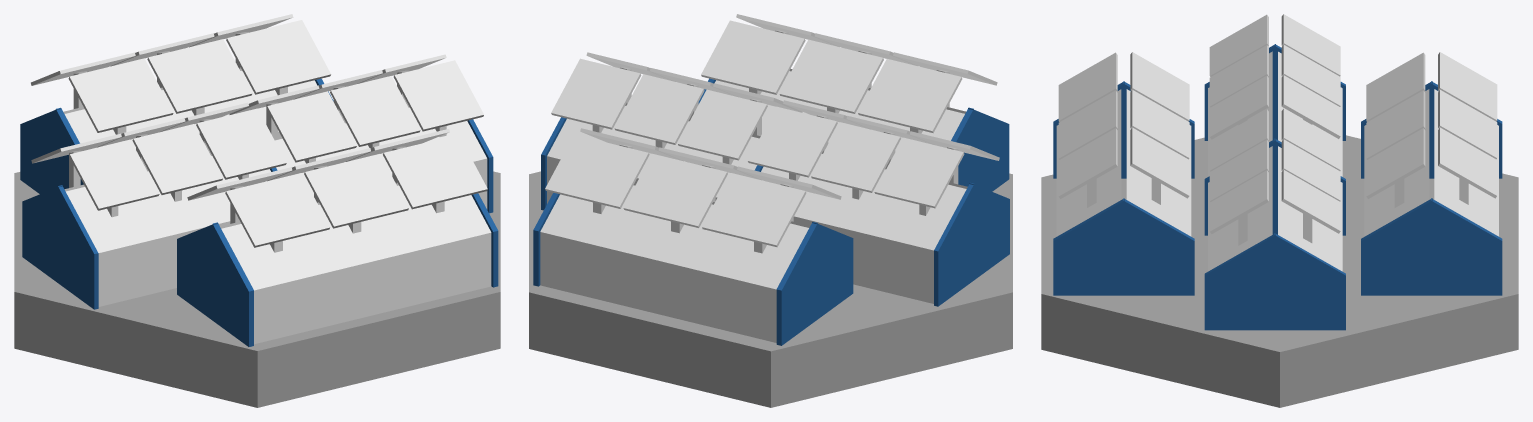
File: SolarPanel.fbx
The picture shows the model from 3 angles, left to right: view 1: azimuth 30°, elevation 25°; view 2: azimuth 150°, elevation 25°; view 3: azimuth 270°, elevation 25°; orthographic projection.
Visible parts, largest first — view 1: polySurface155, pCylinder2; view 2: polySurface155, pCylinder2; view 3: polySurface155, pCylinder2.
Boxes of the visible parts, x1,y1,x2,y2 form: polySurface155: [20, 14, 498, 346]; pCylinder2: [14, 171, 500, 407]; polySurface155: [533, 14, 1009, 345]; pCylinder2: [529, 171, 1012, 407]; polySurface155: [1053, 14, 1502, 330]; pCylinder2: [1041, 135, 1518, 407].
Size of the model in its own units: 14.65 by 5.39 by 12.69.
